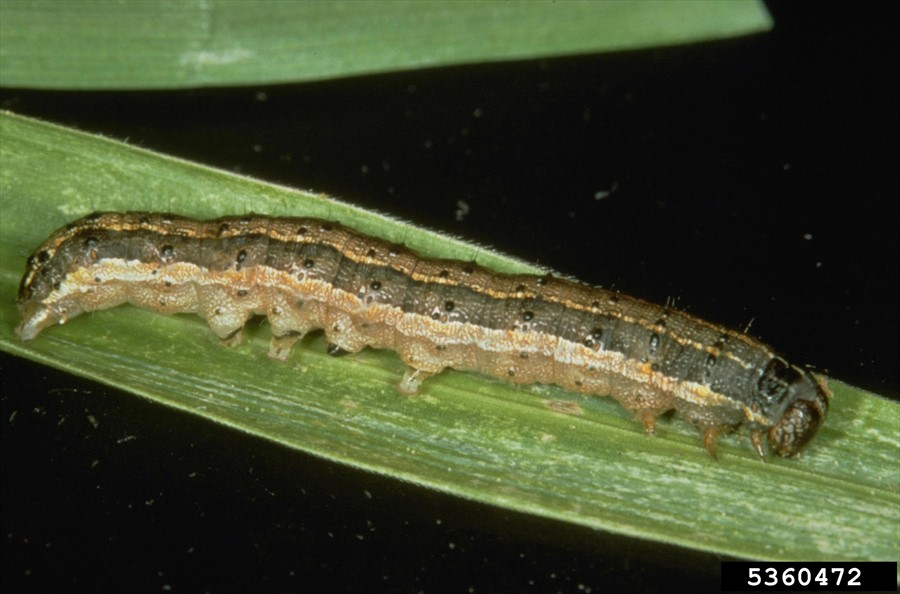Armyworm: (22, 195, 840, 471)
